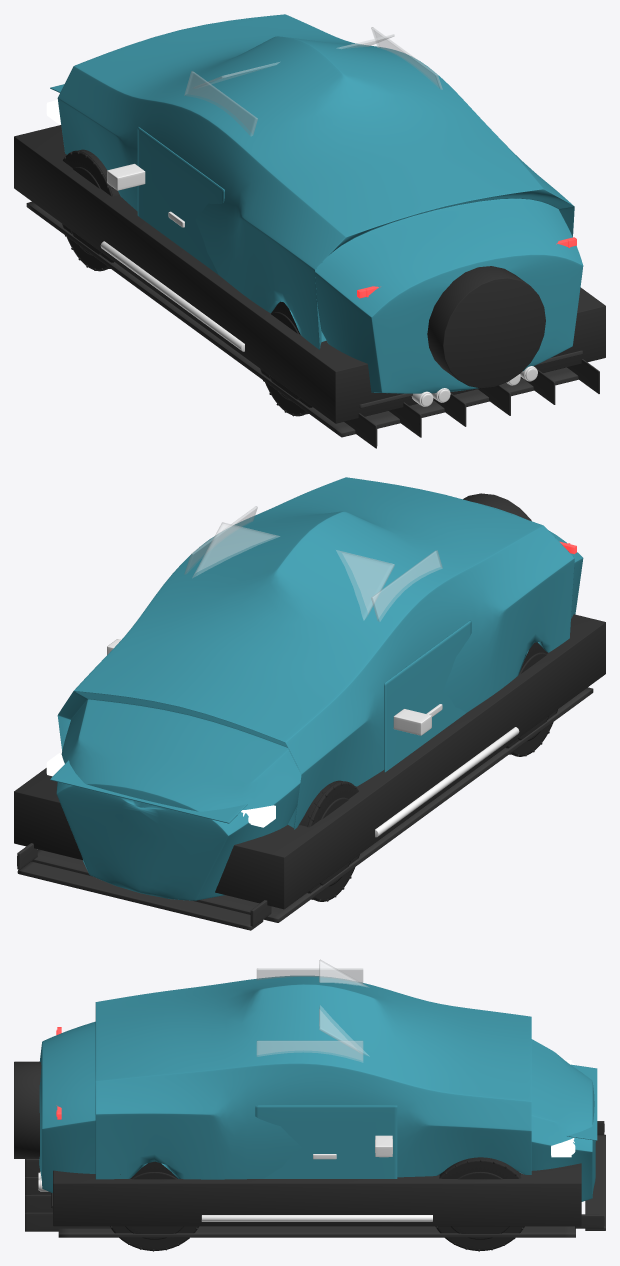
File: Car_Toyota_RAV4_XA10_3Door_1990s_Complete.glb
3 views of the same model, one above another, from view 1: azimuth 30°, elevation 25°; view 2: azimuth 150°, elevation 25°; view 3: azimuth 270°, elevation 25° (orthographic). The views are drawn at different scales.
Visible parts, largest first — view 1: BODY_MainShell, BODY_RAV4_LowerCladding, JEWELRY_RAV4_SpareTire, UNDERBODY_FlatFloor, BODY_Door_FL, GLASS_Greenhouse, WHEEL_FL_Tire, JEWELRY_Hardware, JEWELRY_RAV4_SideSteps, WHEEL_RL_Tire; view 2: BODY_MainShell, BODY_RAV4_LowerCladding, BODY_Door_FL, GLASS_Greenhouse, UNDERBODY_FlatFloor, AERO_FrontSplitter, WHEEL_FL_Tire, BODY_Hood, JEWELRY_RAV4_SideSteps, WHEEL_RL_Tire, JEWELRY_Hardware, LIGHTING_Headlamps (+1 smaller); view 3: BODY_MainShell, BODY_RAV4_LowerCladding, BODY_Door_FR, UNDERBODY_FlatFloor, GLASS_Greenhouse, WHEEL_FR_Tire, JEWELRY_RAV4_SpareTire, WHEEL_RR_Tire, JEWELRY_RAV4_SideSteps, AERO_FrontSplitter, BODY_Hood, JEWELRY_Hardware (+1 smaller).
Boxes of the visible parts, box(x1,y1,x2,y2) form: BODY_MainShell: box(57, 14, 583, 393); BODY_RAV4_LowerCladding: box(14, 125, 605, 423); JEWELRY_RAV4_SpareTire: box(427, 266, 545, 388); UNDERBODY_FlatFloor: box(26, 201, 599, 448); BODY_Door_FL: box(137, 126, 224, 274); GLASS_Greenhouse: box(184, 27, 442, 135); WHEEL_FL_Tire: box(62, 149, 119, 271); JEWELRY_Hardware: box(107, 163, 537, 406); JEWELRY_RAV4_SideSteps: box(100, 241, 244, 351); WHEEL_RL_Tire: box(260, 301, 312, 416); BODY_MainShell: box(56, 477, 583, 900); BODY_RAV4_LowerCladding: box(14, 614, 605, 909); BODY_Door_FL: box(384, 620, 471, 772); GLASS_Greenhouse: box(184, 506, 442, 621); UNDERBODY_FlatFloor: box(31, 687, 593, 922); AERO_FrontSplitter: box(17, 843, 271, 930); WHEEL_FL_Tire: box(299, 780, 359, 901); BODY_Hood: box(50, 760, 247, 823); JEWELRY_RAV4_SideSteps: box(375, 727, 519, 837); WHEEL_RL_Tire: box(506, 642, 557, 756); JEWELRY_Hardware: box(107, 639, 442, 735); LIGHTING_Headlamps: box(46, 753, 275, 827); BODY_MainShell: box(39, 975, 595, 1201); BODY_RAV4_LowerCladding: box(53, 1163, 581, 1226); BODY_Door_FR: box(255, 1105, 397, 1178); UNDERBODY_FlatFloor: box(25, 1159, 575, 1237); GLASS_Greenhouse: box(256, 959, 369, 1062); WHEEL_FR_Tire: box(435, 1157, 524, 1251); JEWELRY_RAV4_SpareTire: box(14, 1061, 41, 1158); WHEEL_RR_Tire: box(110, 1161, 199, 1251); JEWELRY_RAV4_SideSteps: box(201, 1215, 432, 1221); AERO_FrontSplitter: box(575, 1121, 605, 1230); BODY_Hood: box(566, 1064, 597, 1140); JEWELRY_Hardware: box(38, 1135, 392, 1191).
Size of what is drawn, in the model's own units: 2.02 by 1.62 by 4.
